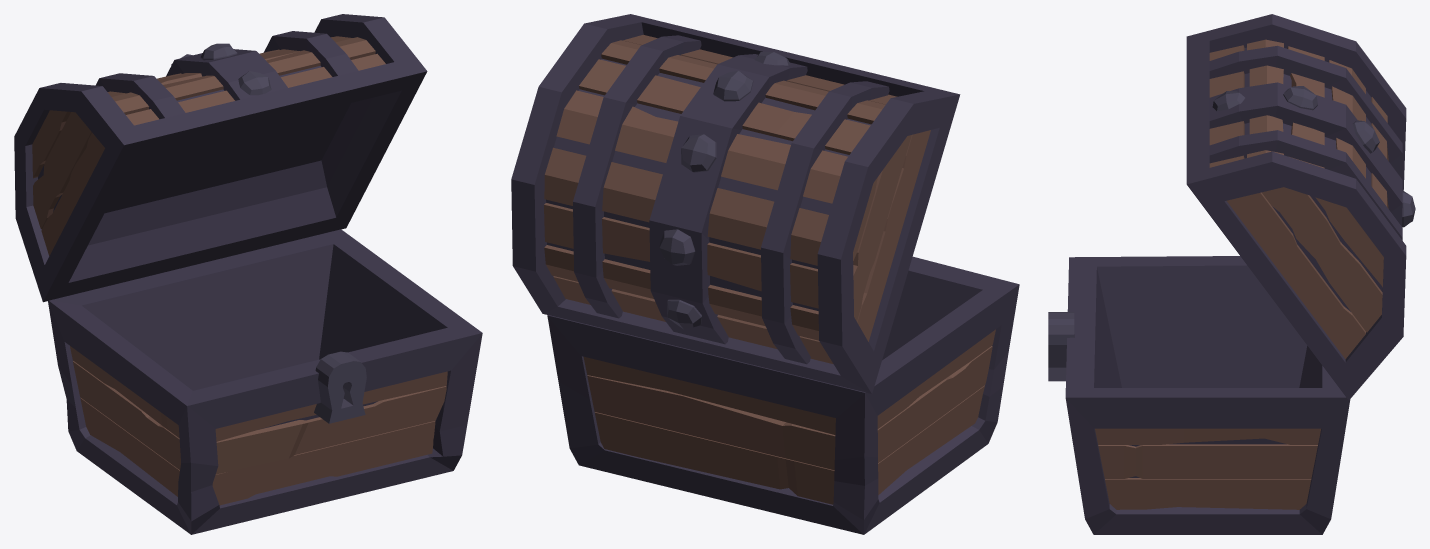
Rendered from Chest_Open.glb.
The picture shows the model from 3 angles, left to right: view 1: azimuth 30°, elevation 25°; view 2: azimuth 150°, elevation 25°; view 3: azimuth 270°, elevation 25°; orthographic projection. The views are drawn at different scales.
Visible parts, largest first — view 1: Chest_Open_Cube.018; view 2: Chest_Open_Cube.018; view 3: Chest_Open_Cube.018.
Part boxes in pixels (x1,y1,x2,y2): Chest_Open_Cube.018: (14, 14, 482, 534); Chest_Open_Cube.018: (511, 14, 1019, 534); Chest_Open_Cube.018: (1048, 14, 1415, 534).
Size of the model in its own units: 0.9495 by 1.15 by 0.9963.
